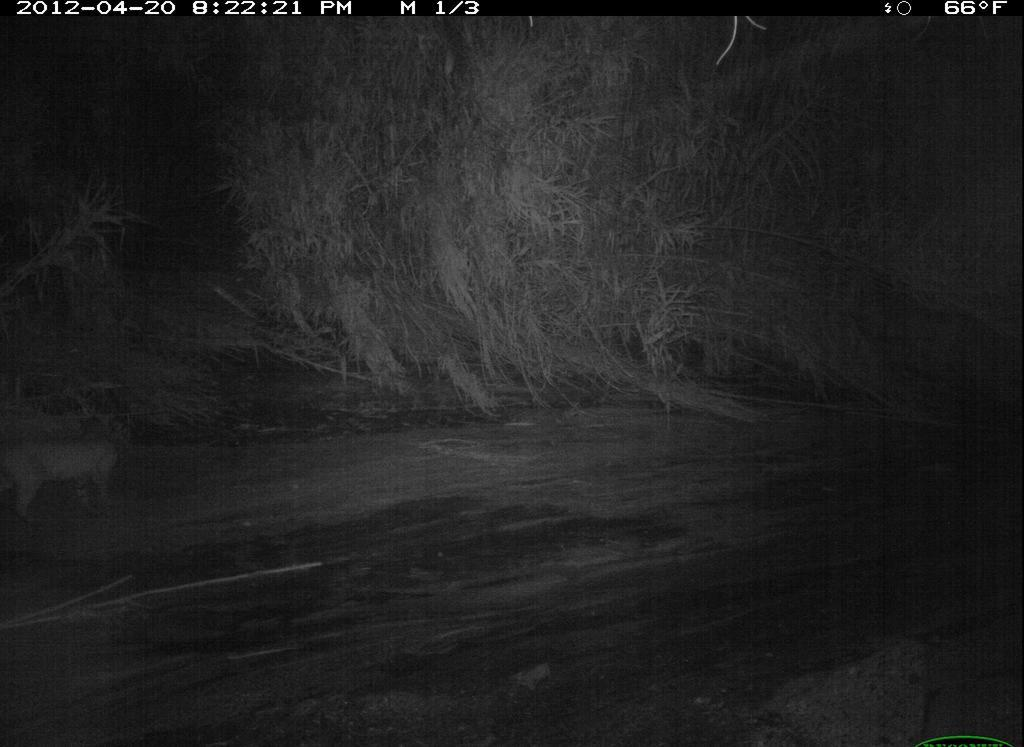bobcat: (4, 419, 141, 537)
